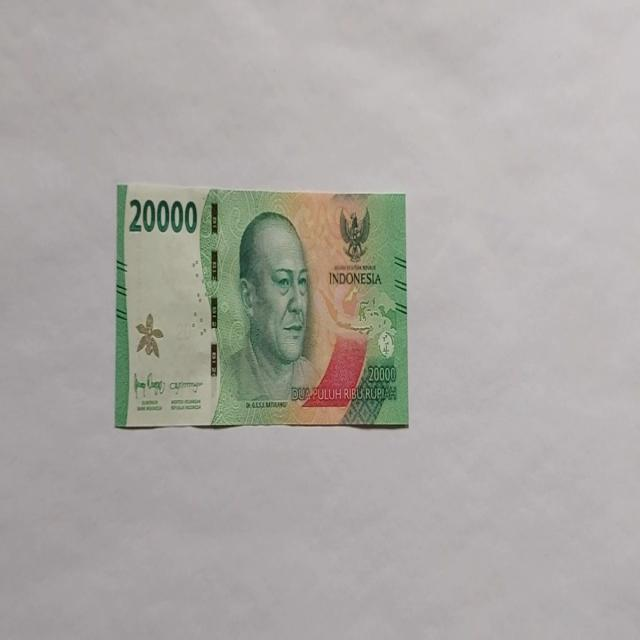dua puluh ribu rupiah: (114, 182, 408, 430), (206, 206, 368, 426)
